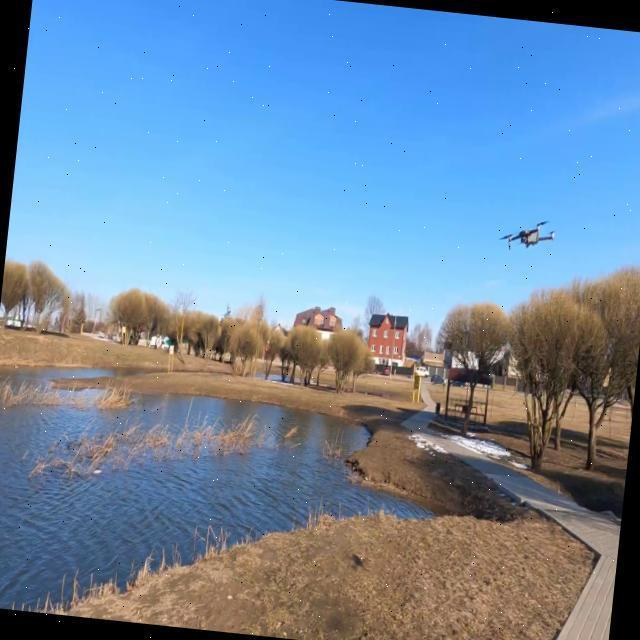Drons: (492, 216, 560, 259)
